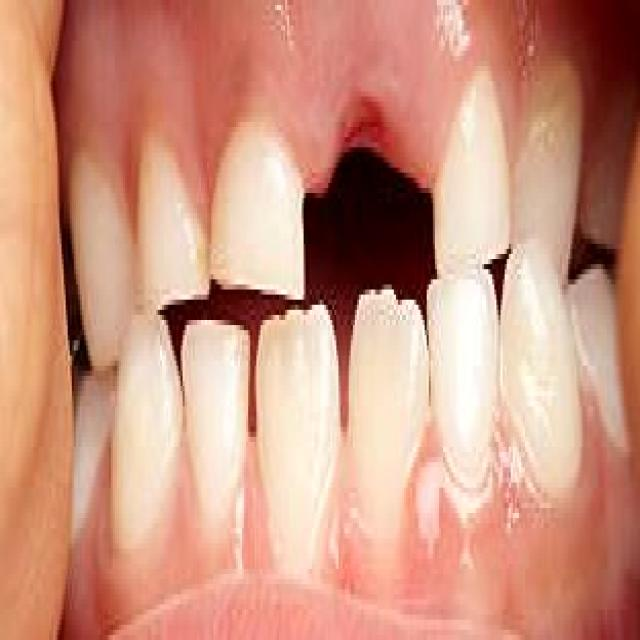hypodontia: (304, 107, 433, 315)
